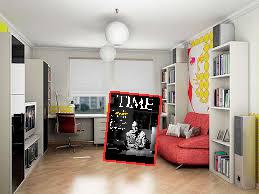times: (101, 91, 163, 165)
